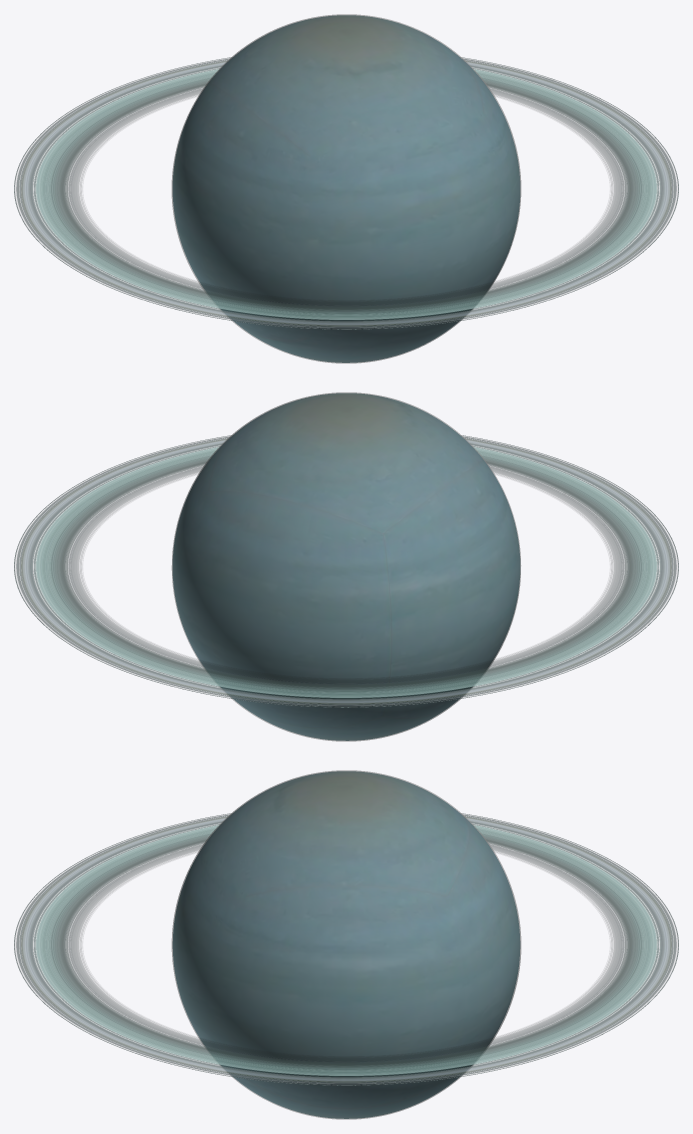
File: uranus_comp.glb
The picture shows the model from 3 angles, top to bottom: view 1: azimuth 30°, elevation 25°; view 2: azimuth 150°, elevation 25°; view 3: azimuth 270°, elevation 25°; orthographic projection.
Parts seen in each view (by area): view 1: planetUranus_uranus_n3d, planetUranus_atmosphere_n3d, planetUranus_ring_n3d; view 2: planetUranus_uranus_n3d, planetUranus_atmosphere_n3d, planetUranus_ring_n3d; view 3: planetUranus_uranus_n3d, planetUranus_atmosphere_n3d, planetUranus_ring_n3d.
Boxes of the visible parts, x1,y1,x2,y2 form: planetUranus_uranus_n3d: (172,15,520,362); planetUranus_atmosphere_n3d: (171,14,521,363); planetUranus_ring_n3d: (14,57,678,329); planetUranus_uranus_n3d: (172,393,520,740); planetUranus_atmosphere_n3d: (171,392,520,741); planetUranus_ring_n3d: (14,435,678,707); planetUranus_uranus_n3d: (172,771,520,1118); planetUranus_atmosphere_n3d: (171,770,521,1119); planetUranus_ring_n3d: (14,813,678,1085).
Size of the model in its own units: 0.3781 by 0.1986 by 0.3781.
Materials: 3 (2 with a texture image).
